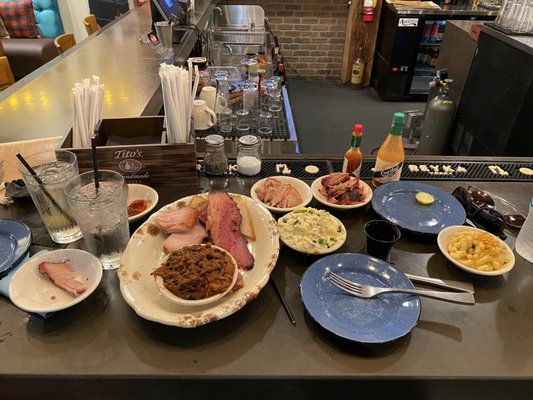pizza: (65, 169, 131, 270), (16, 150, 82, 244), (71, 76, 105, 149), (364, 219, 402, 262), (236, 135, 262, 176)
sushi: (372, 180, 467, 243), (437, 225, 516, 277), (277, 206, 347, 256), (250, 176, 313, 218), (311, 173, 374, 210)
